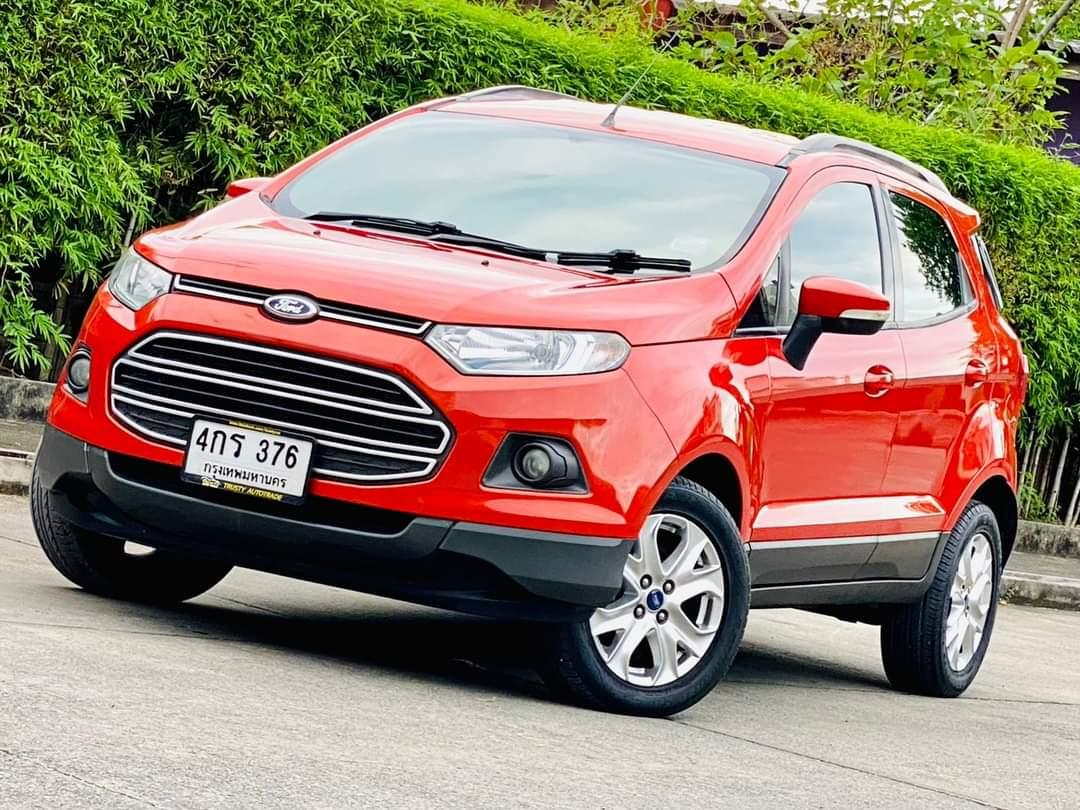license-plate: (176, 408, 324, 514)
